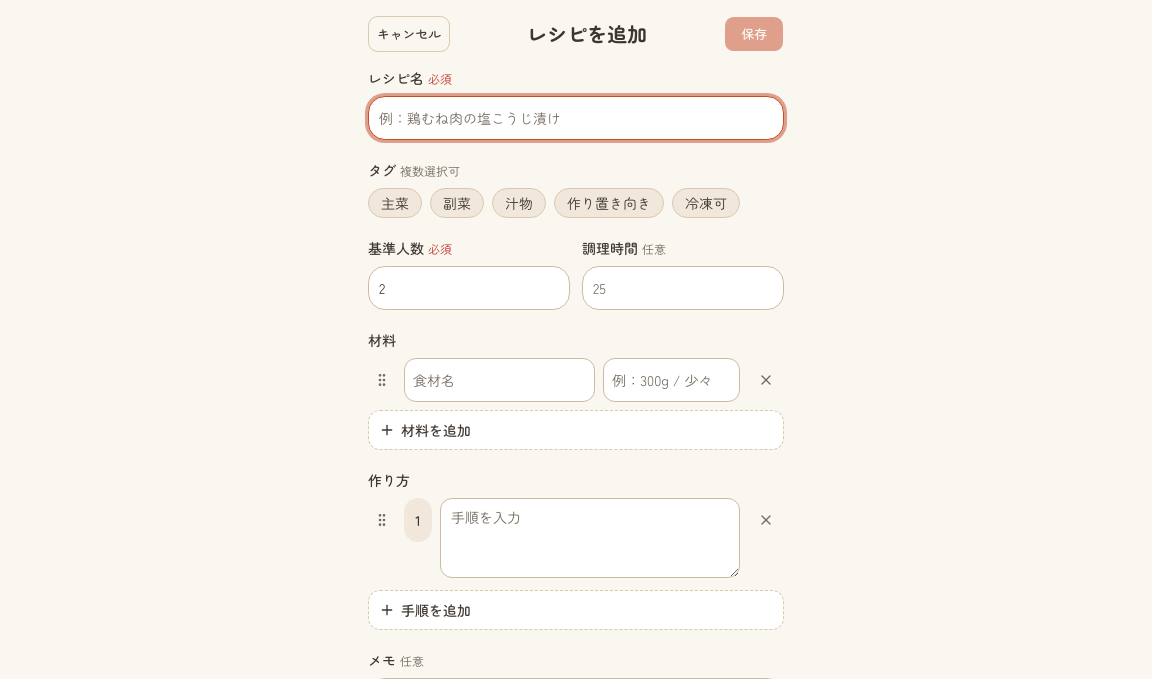
Scenario: RecipeFormClient › RFC-07: 編集後にキャンセルすると確認ダイアログが出て遷移しない
Step 1. Type "肉じゃが" into the field labelled "レシピ名 必須" → (576, 118), box [368, 96, 784, 140]
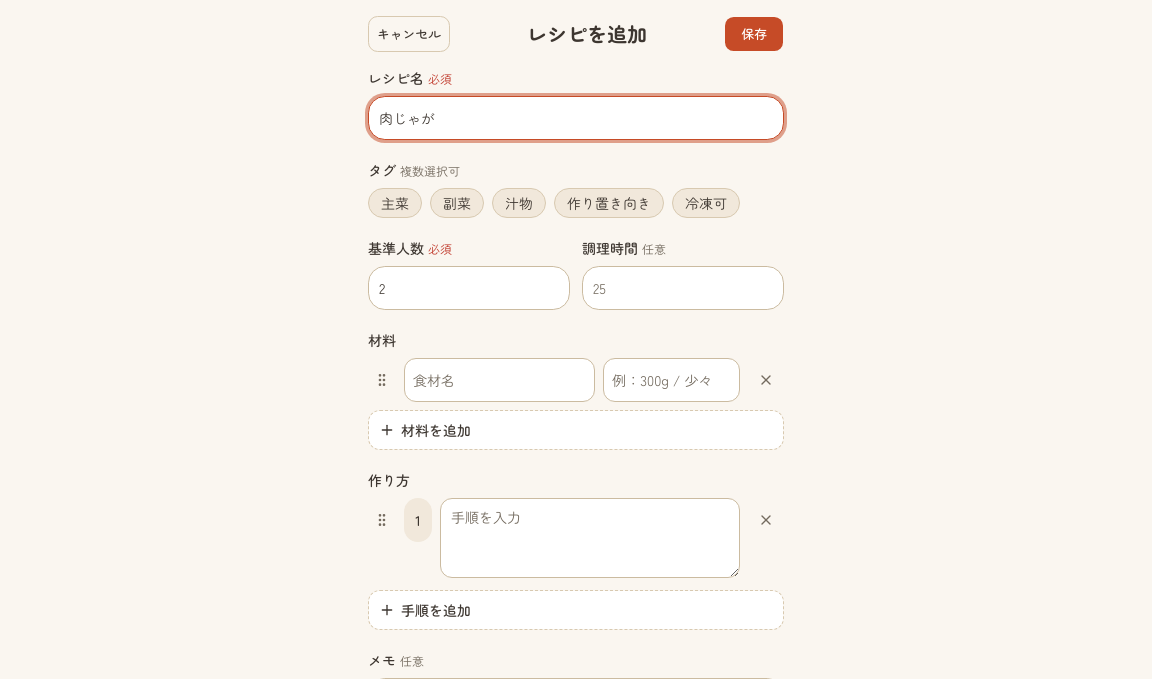
Step 2. Click the button "キャンセル" → (409, 34), box [368, 16, 450, 52]
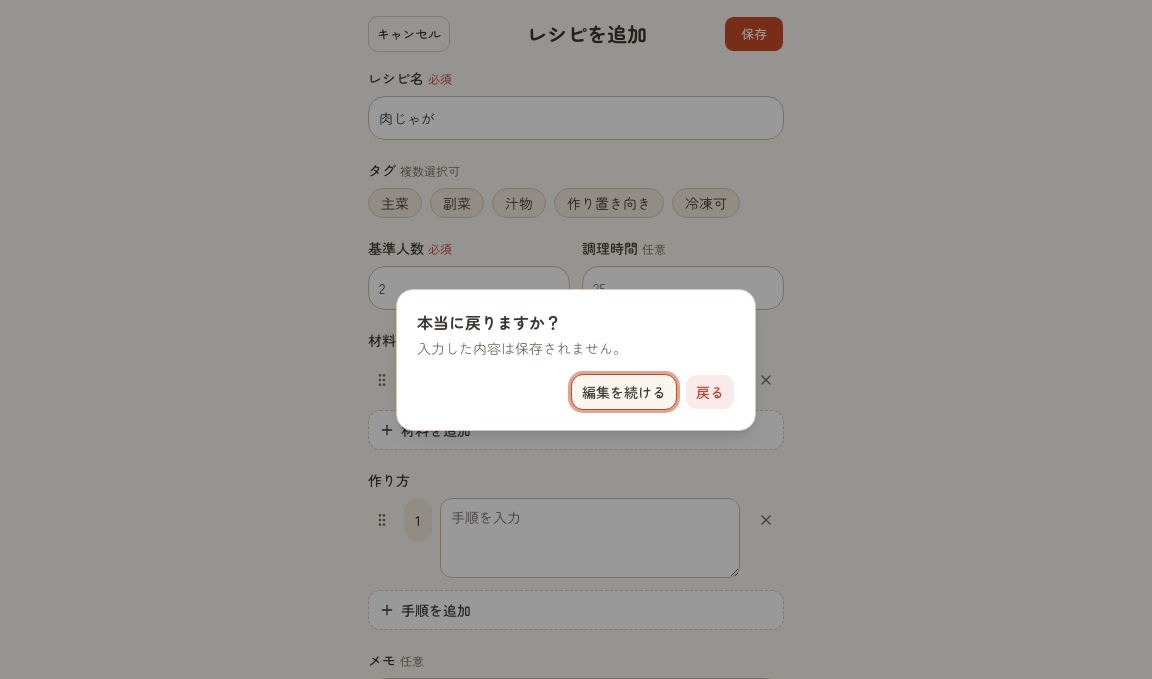
Now the heading "本当に戻りますか？" is shown, box [417, 310, 561, 334]
